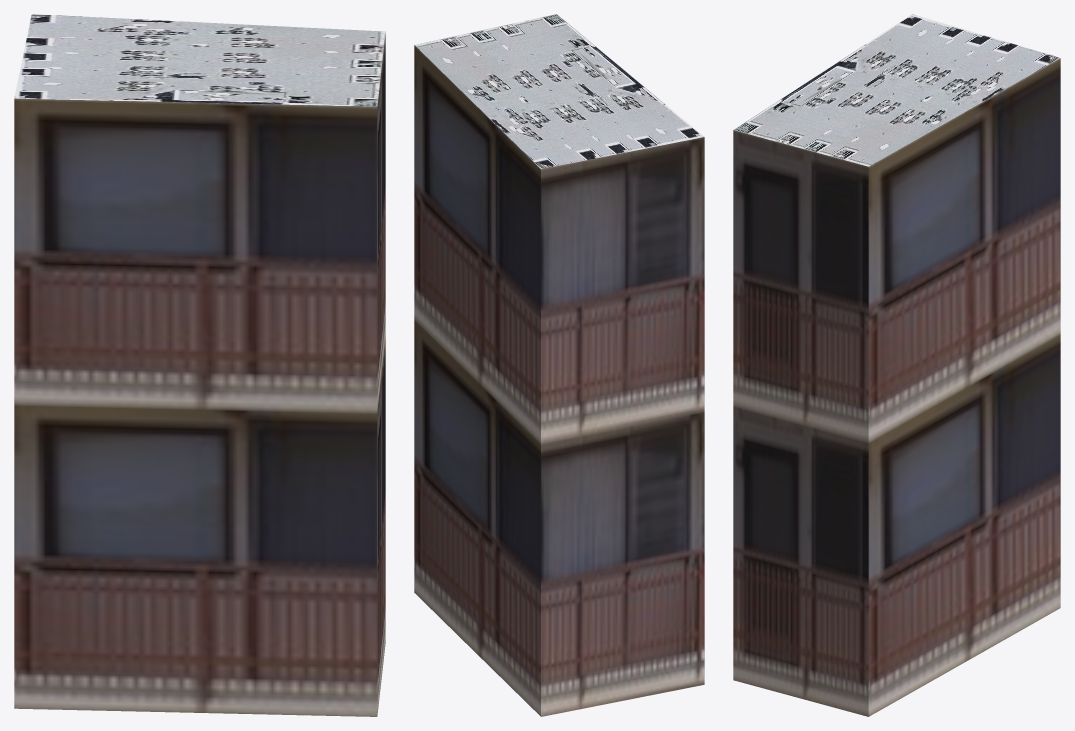
Rendered from ResTex__1057.fbx.
3 views of the same model, side by side, from view 1: azimuth 30°, elevation 25°; view 2: azimuth 150°, elevation 25°; view 3: azimuth 270°, elevation 25° (orthographic). The views are drawn at different scales.
Visible parts, largest first — view 1: CityEngineMaterial_6_m, CityEngineMaterial_4_m; view 2: CityEngineMaterial_6_m, CityEngineMaterial_4_m; view 3: CityEngineMaterial_6_m, CityEngineMaterial_4_m.
Part boxes in pixels (x1=…): CityEngineMaterial_6_m: x1=14, y1=34, x2=385, y2=716; CityEngineMaterial_4_m: x1=14, y1=14, x2=385, y2=106; CityEngineMaterial_6_m: x1=414, y1=45, x2=704, y2=716; CityEngineMaterial_4_m: x1=415, y1=14, x2=703, y2=168; CityEngineMaterial_6_m: x1=733, y1=58, x2=1060, y2=716; CityEngineMaterial_4_m: x1=734, y1=14, x2=1059, y2=166.
Size of the model in its own units: 3.57 by 6 by 3.24.
2 materials, 2 textured.
